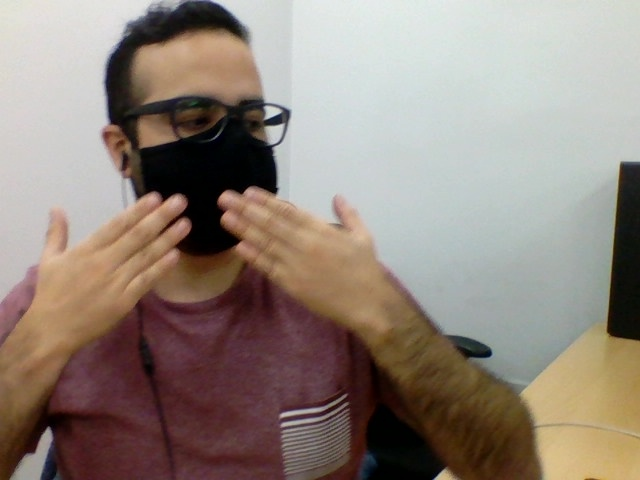ThankYou: (34, 185, 395, 353)
